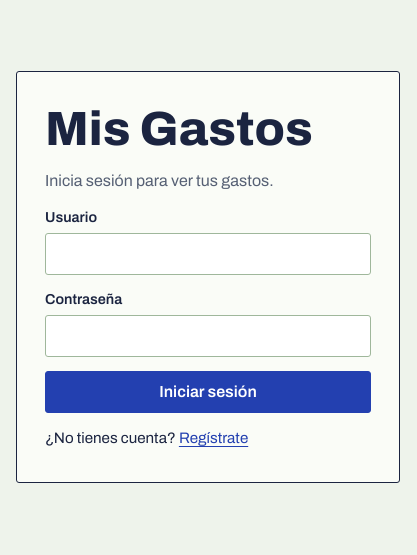
Test: LoginPage: too many attempts (429) › says there were too many attempts and how many minutes to wait, from Retry-After
Type "ana" into the field labelled "Usuario" at (208, 254), box [45, 233, 371, 275]
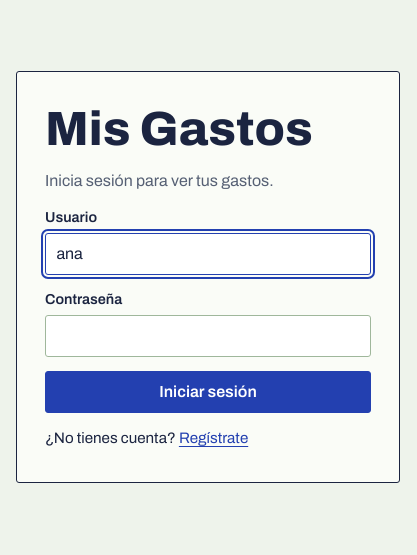
Type "secreto-123" into the password field labelled "Contraseña" at (208, 336), box [45, 315, 371, 357]
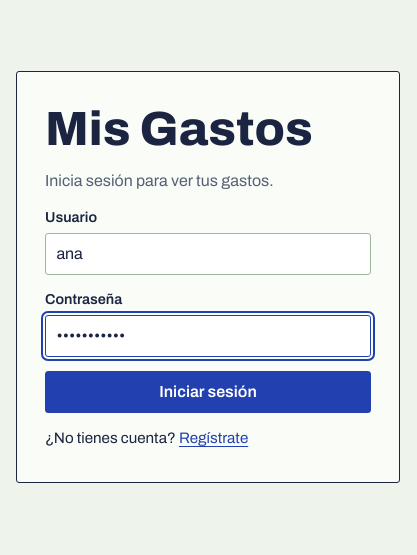
Click the button "Iniciar sesión" at (208, 392), box [45, 371, 371, 413]
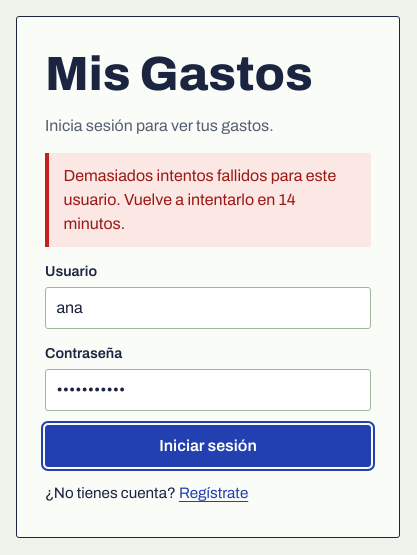
Result: the message shows "Demasiados intentos fallidos para este usuario. Vuelve a intentarlo en 14 minutos." at [63, 167, 336, 232]
